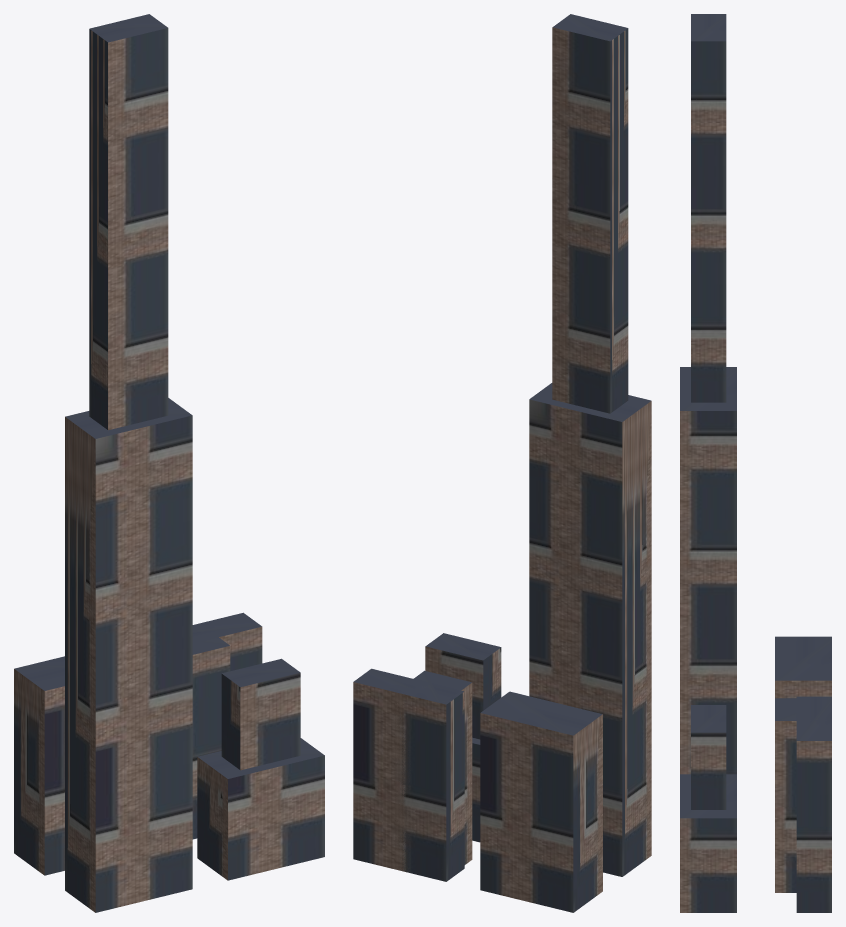
Rendered from block_08.obj.
3 renders of one model, left to right at view 1: azimuth 30°, elevation 25°; view 2: azimuth 150°, elevation 25°; view 3: azimuth 270°, elevation 25°, orthographic. The views are drawn at different scales.
Visible parts, largest first — view 1: b1, b3, b0, b2; view 2: b1, b0, b2, b3; view 3: b1, b2, b3, b0.
Part boxes in pixels (x1,y1,x2,y2): b1: [65, 14, 192, 912]; b3: [197, 658, 324, 880]; b0: [14, 656, 64, 875]; b2: [192, 612, 262, 839]; b1: [529, 14, 651, 876]; b0: [480, 691, 602, 912]; b2: [353, 668, 472, 881]; b3: [425, 633, 501, 842]; b1: [680, 14, 736, 774]; b2: [775, 696, 831, 912]; b3: [680, 705, 736, 912]; b0: [775, 636, 831, 698].
Bounding box in the file's own units: 3.9 × 14 × 2.4.
